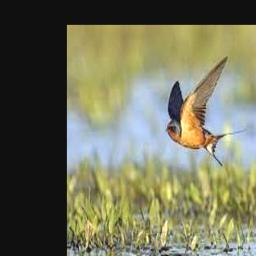Swallow: (166, 56, 246, 167)
